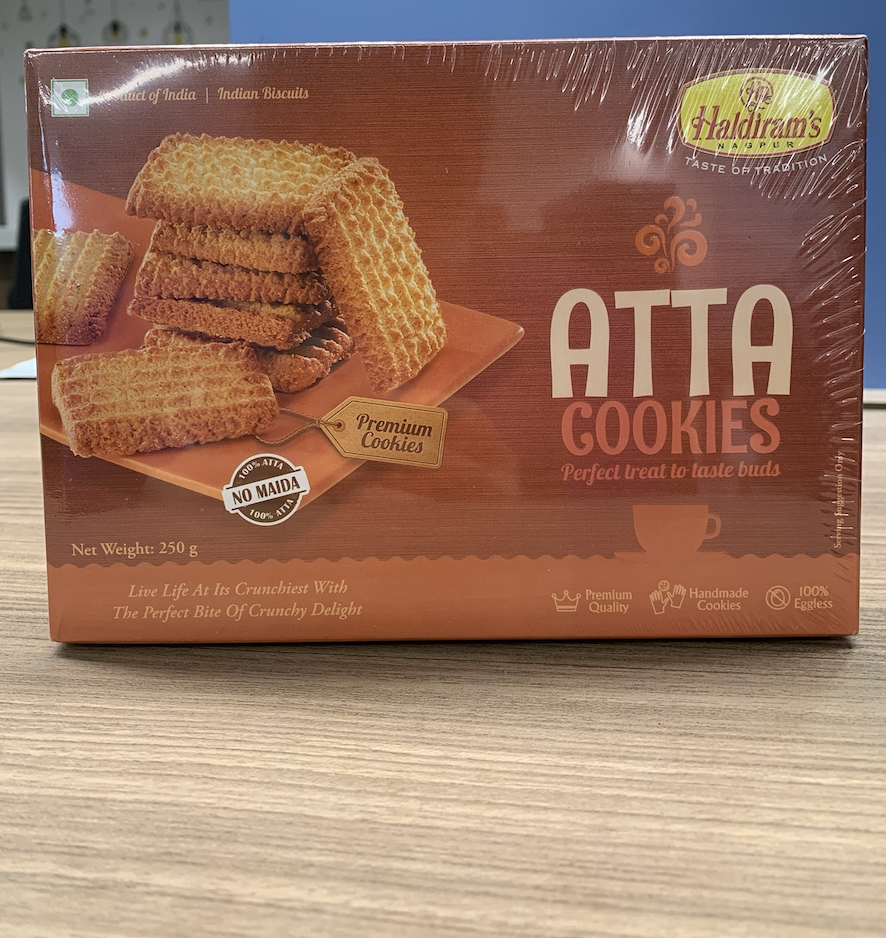cookies_150g: (39, 52, 857, 627)
